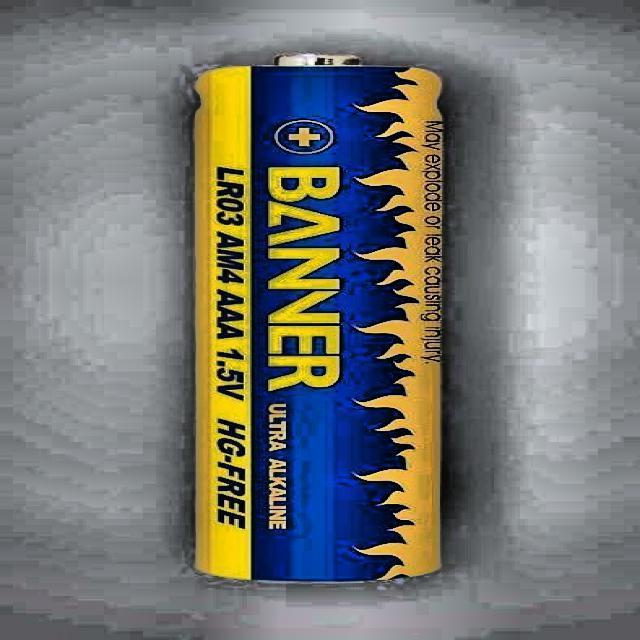battery: (195, 58, 441, 581)
